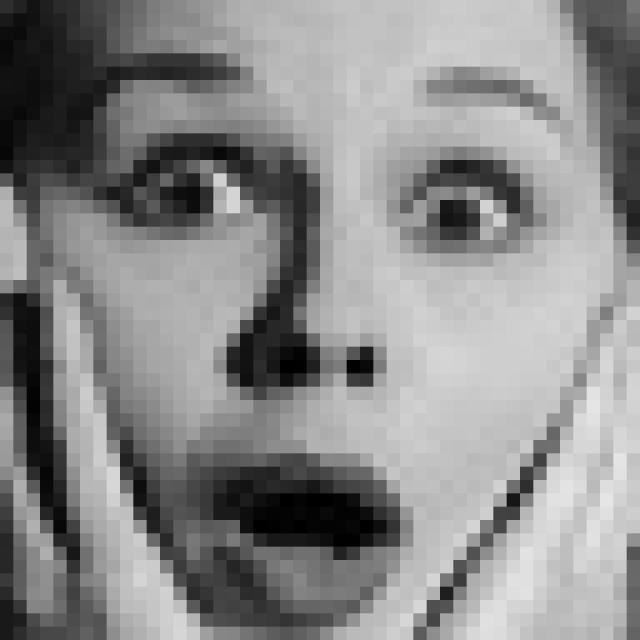surprise: (77, 47, 576, 640)
